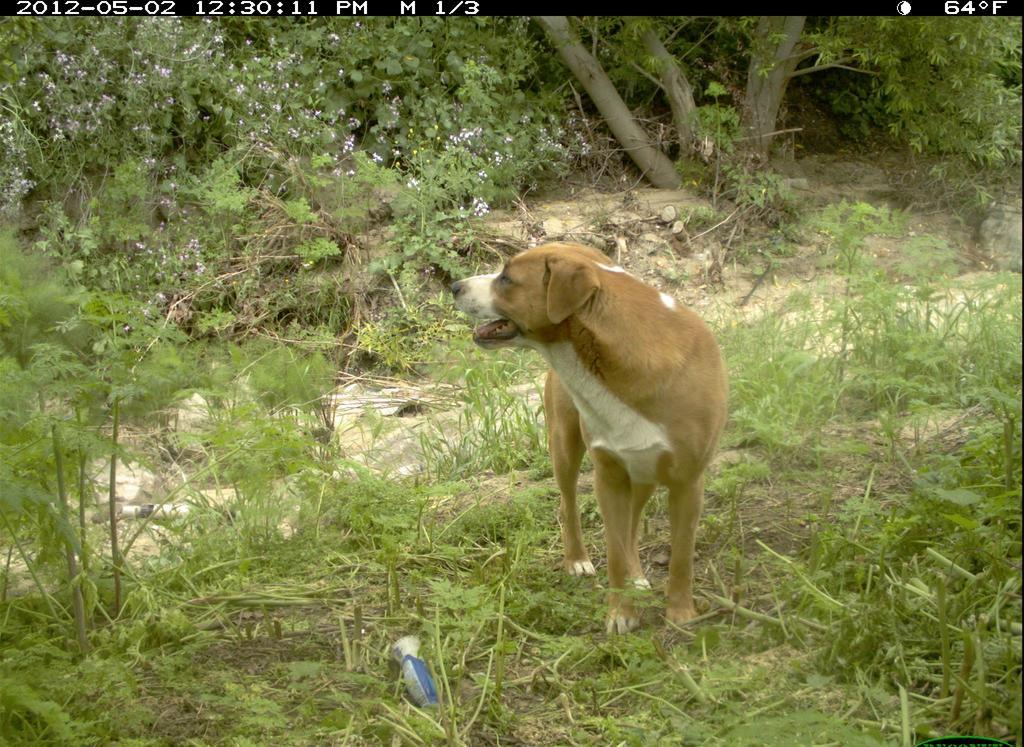dog: (443, 235, 738, 647)
